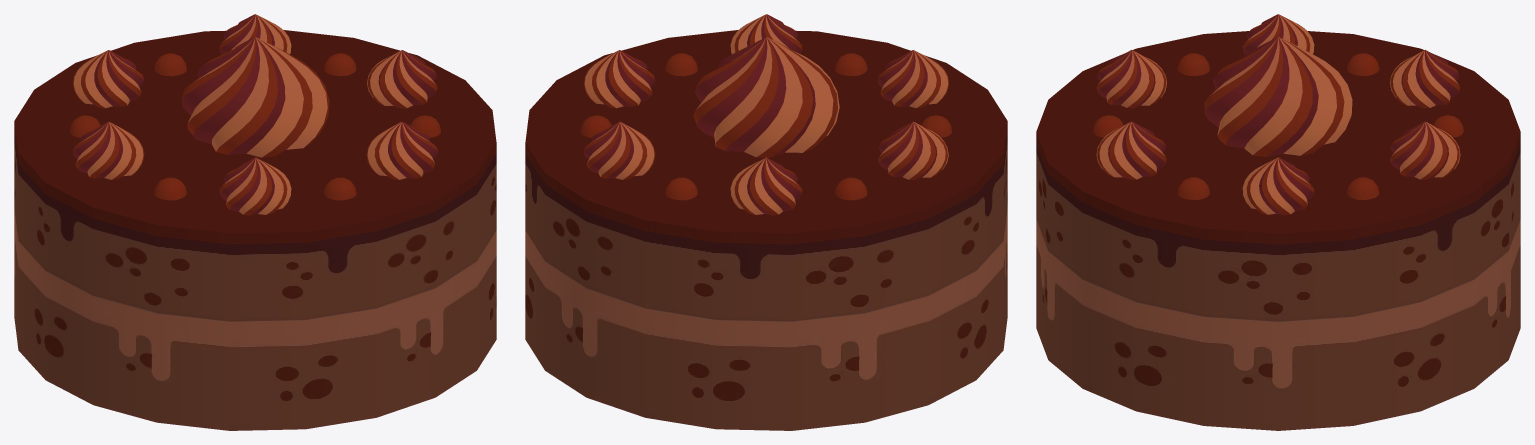
File: cake_normal-transformed.glb
3 views of the same model, side by side, from view 1: azimuth 30°, elevation 25°; view 2: azimuth 150°, elevation 25°; view 3: azimuth 270°, elevation 25° (orthographic).
Visible parts, largest first — view 1: Whole_Chocolate_cake_0; view 2: Whole_Chocolate_cake_0; view 3: Whole_Chocolate_cake_0.
Boxes of the visible parts, left/top/right/bottom form: Whole_Chocolate_cake_0: left=14, top=14, right=496, bottom=430; Whole_Chocolate_cake_0: left=525, top=14, right=1007, bottom=430; Whole_Chocolate_cake_0: left=1036, top=14, right=1520, bottom=430.
Size of the model in its own units: 0.4 by 0.2662 by 0.4.
1 material, 1 textured.
